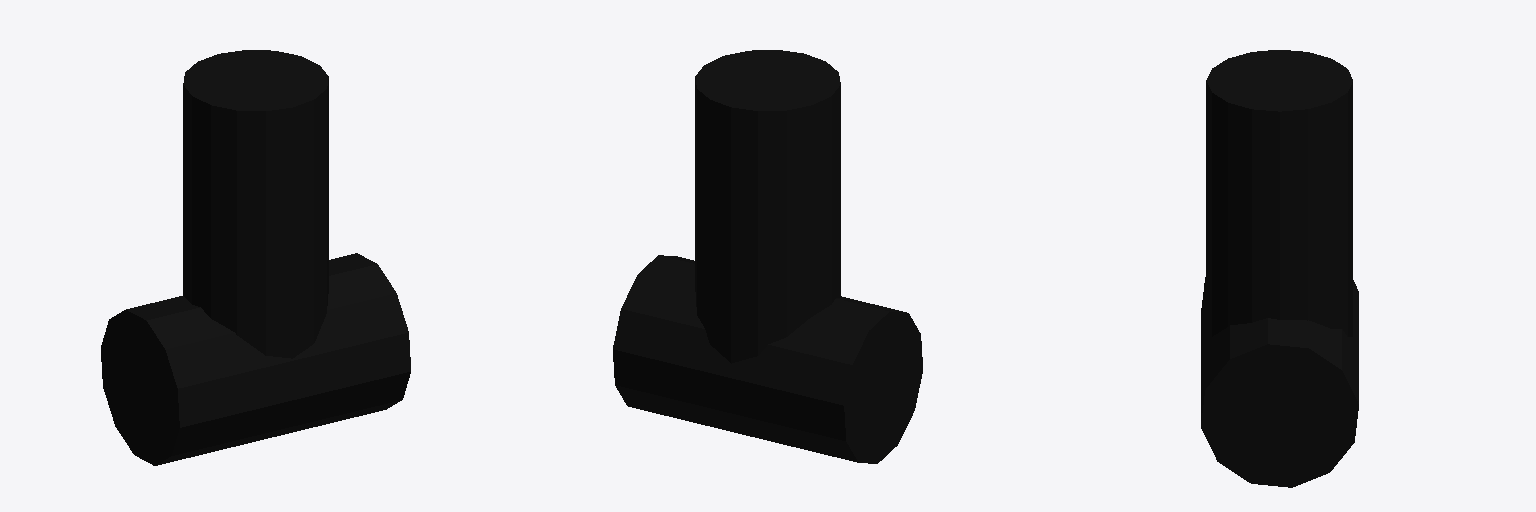
The model's file is ExSmallCylinder.obj.
The picture shows the model from 3 angles: view 1: azimuth 30°, elevation 25°; view 2: azimuth 150°, elevation 25°; view 3: azimuth 270°, elevation 25°; orthographic projection.
Parts seen in each view (by area): view 1: group_0_ID3; view 2: group_0_ID3; view 3: group_0_ID3.
Boxes of the visible parts, box(x1,y1,x2,y2) form: group_0_ID3: box(101, 50, 410, 465); group_0_ID3: box(613, 50, 922, 463); group_0_ID3: box(1201, 50, 1358, 487).
Size of the model in its own units: 0.2 by 0.2898 by 0.1186.